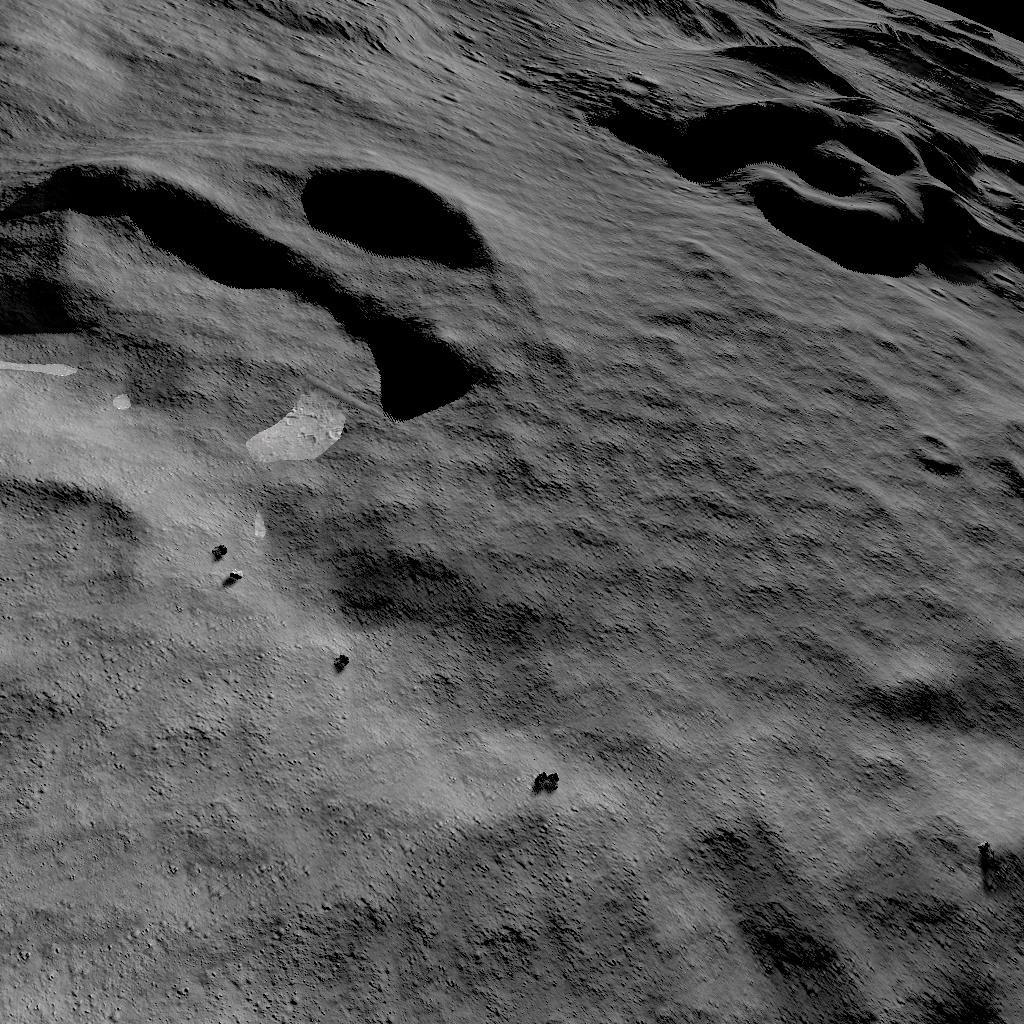Crater: (0, 148, 516, 408), (579, 0, 1024, 287), (0, 475, 151, 737), (881, 426, 1024, 506)
Plan surface: (561, 368, 869, 1024), (0, 792, 506, 1024)
